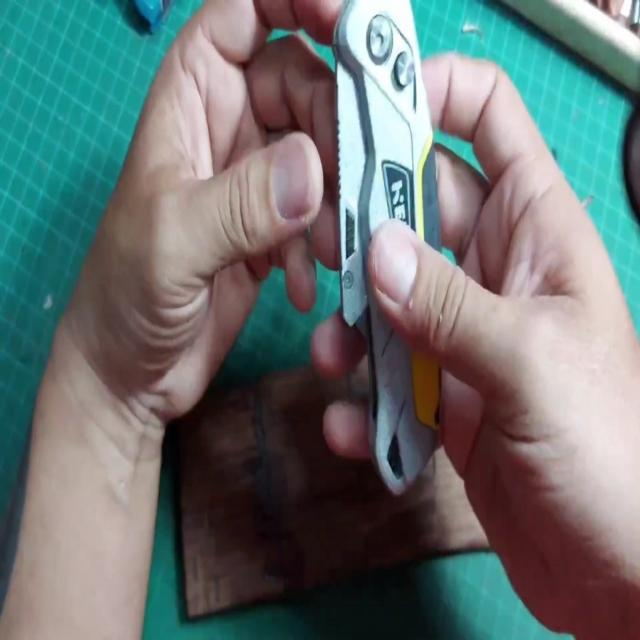cutter: (25, 0, 639, 563)
